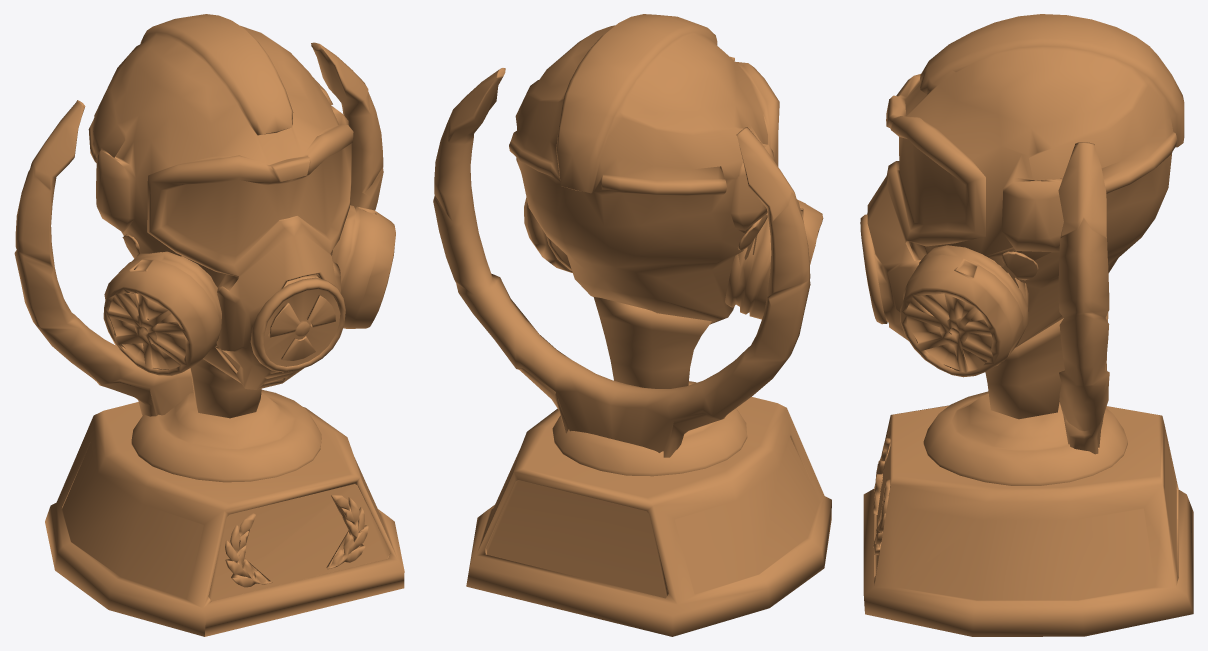
File: bronz_radyasyon.glb
3 renders of one model, left to right at view 1: azimuth 30°, elevation 25°; view 2: azimuth 150°, elevation 25°; view 3: azimuth 270°, elevation 25°, orthographic. The views are drawn at different scales.
Parts seen in each view (by area): view 1: bronz_radyasyon; view 2: bronz_radyasyon; view 3: bronz_radyasyon.
Boxes of the visible parts, x1,y1,x2,y2 form: bronz_radyasyon: [14, 14, 404, 636]; bronz_radyasyon: [433, 14, 831, 636]; bronz_radyasyon: [860, 14, 1193, 636].
Size of the model in its own units: 0.7373 by 1 by 0.5592.
